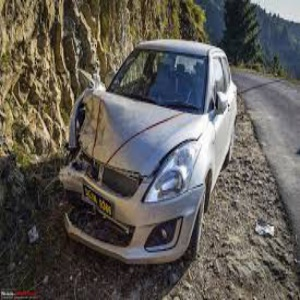bonnet: (83, 92, 161, 176)
bumper: (47, 177, 196, 265)
